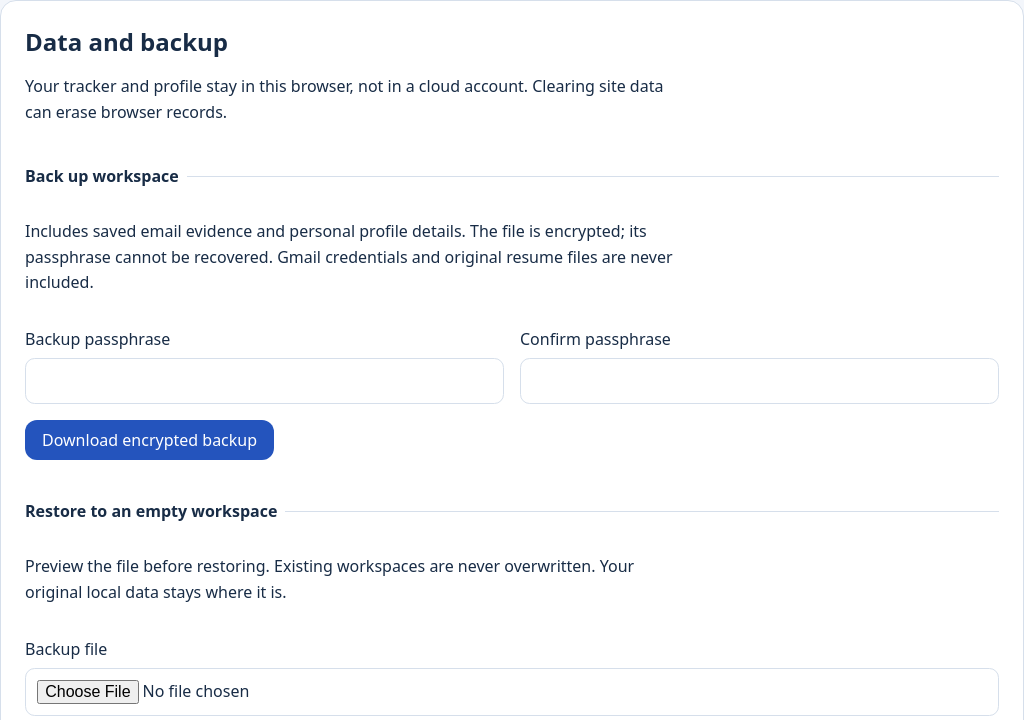
Test: requires a confirmed passphrase before creating a backup
This screenshot has width=1024, height=720.
Type "synthetic long password" into the password field labelled "Backup passphrase" at (264, 381), box [25,358,504,404]
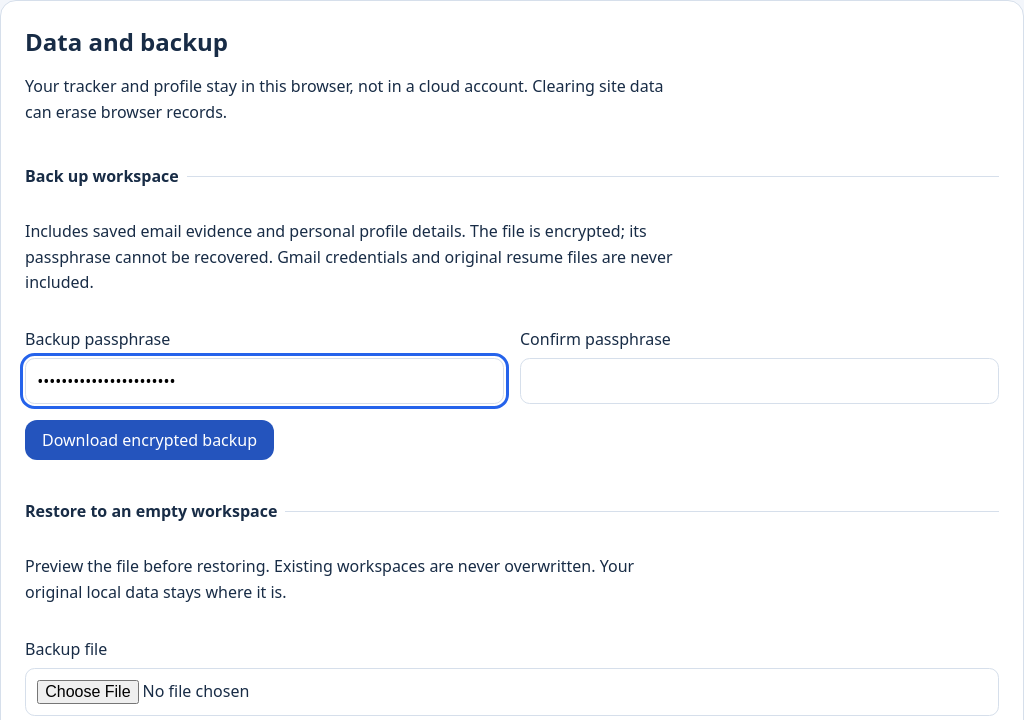
Type "different password" into the password field labelled "Confirm passphrase" at (760, 381), box [520,358,999,404]
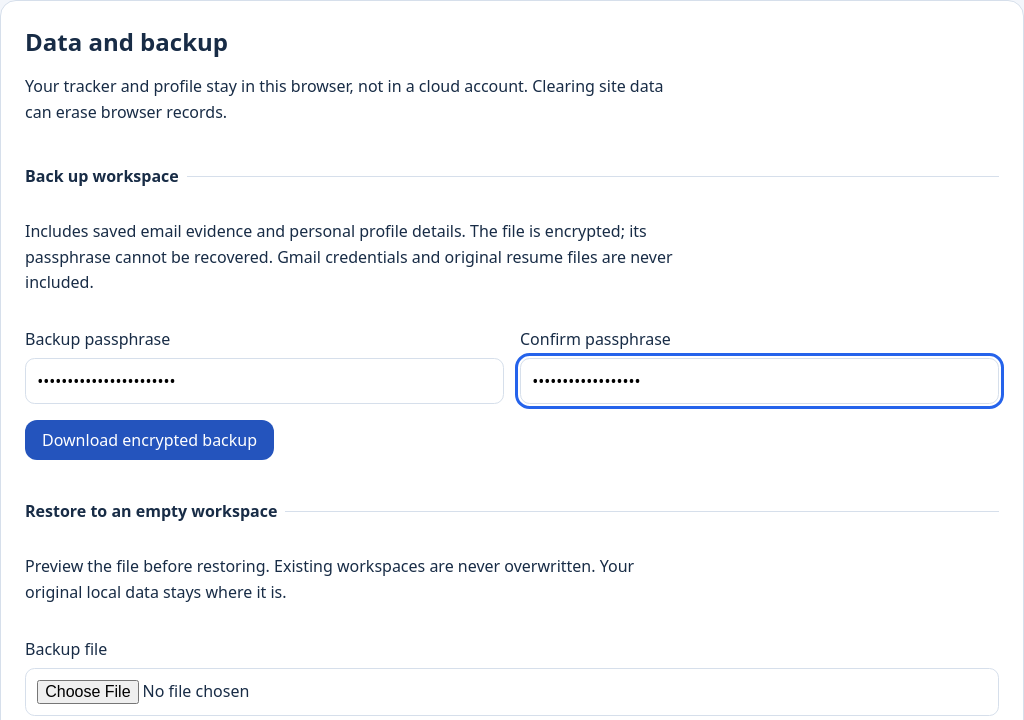
Click the button "Download encrypted backup" at (150, 440), box [25,420,274,460]
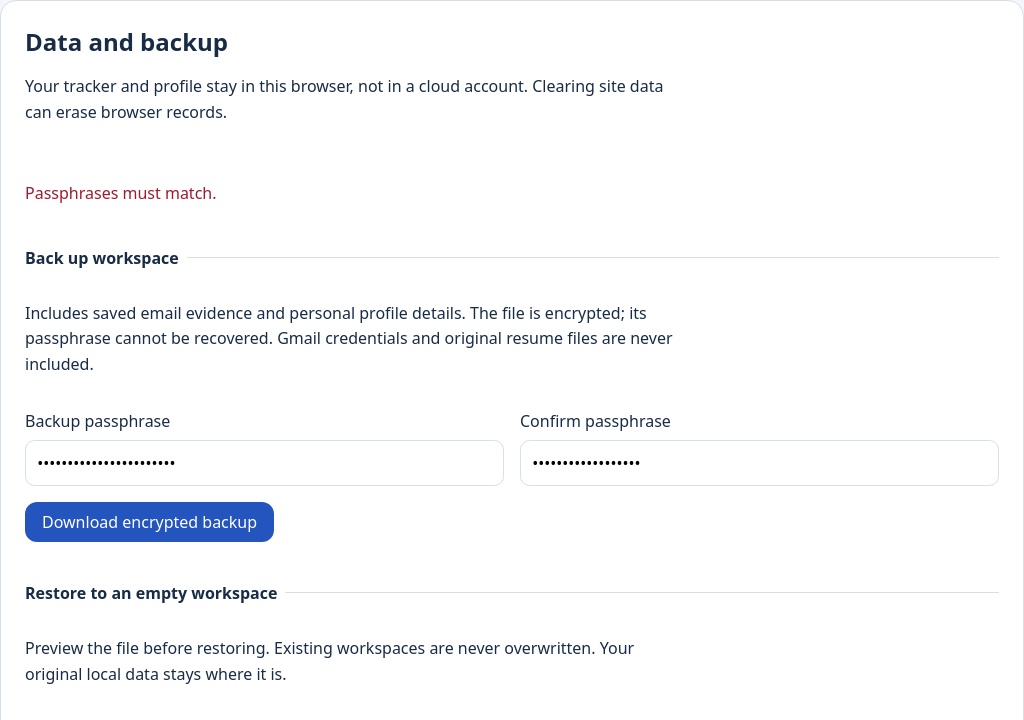
Expected: the message shows "match", [25,182,216,204]
